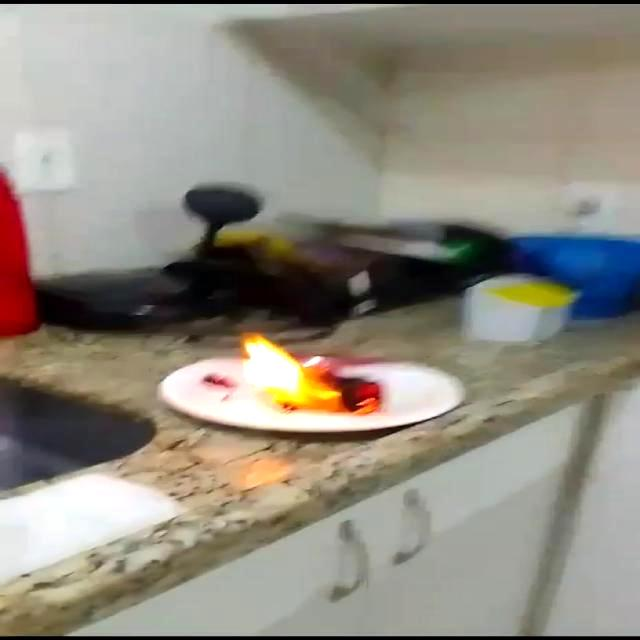fire: (236, 330, 384, 422)
